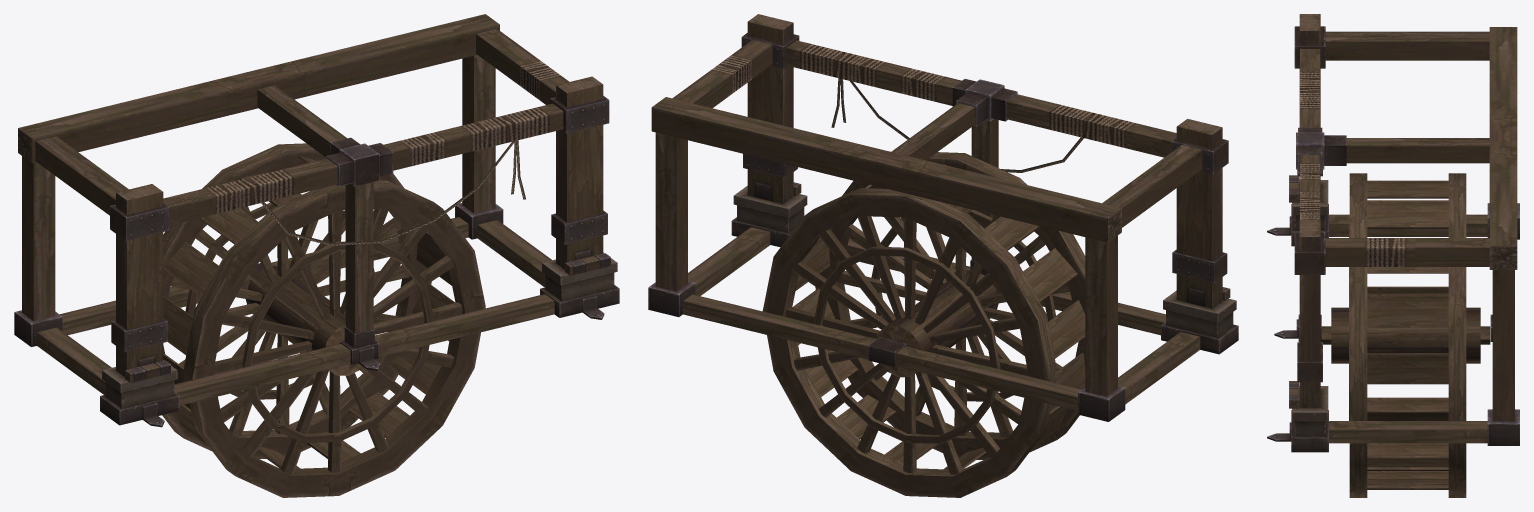
The model's file is fld_wujian16_jgc.FBX.
3 renders of one model, left to right at view 1: azimuth 30°, elevation 25°; view 2: azimuth 150°, elevation 25°; view 3: azimuth 270°, elevation 25°, orthographic. The views are drawn at different scales.
Visible parts, largest first — view 1: fld_wujian16_jgc; view 2: fld_wujian16_jgc; view 3: fld_wujian16_jgc.
Part boxes in pixels (x1,y1,x2,y2): fld_wujian16_jgc: (14, 14, 619, 497); fld_wujian16_jgc: (648, 14, 1238, 497); fld_wujian16_jgc: (1267, 14, 1519, 497).
Size of the model in its own units: 25.65 by 18.26 by 11.7.
